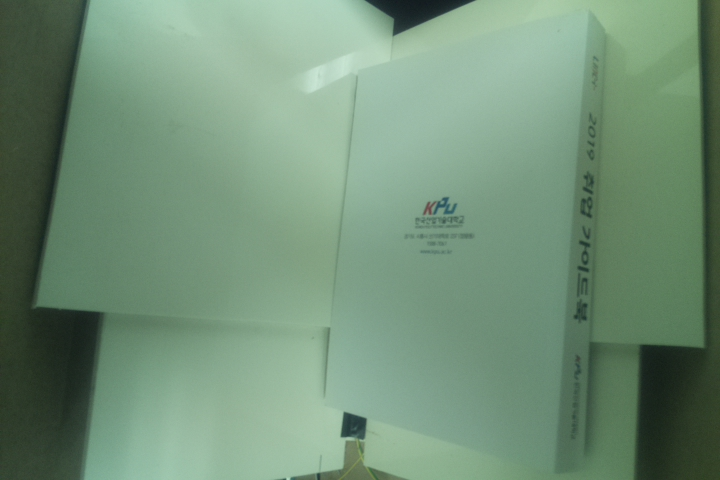book: (324, 6, 606, 477)
